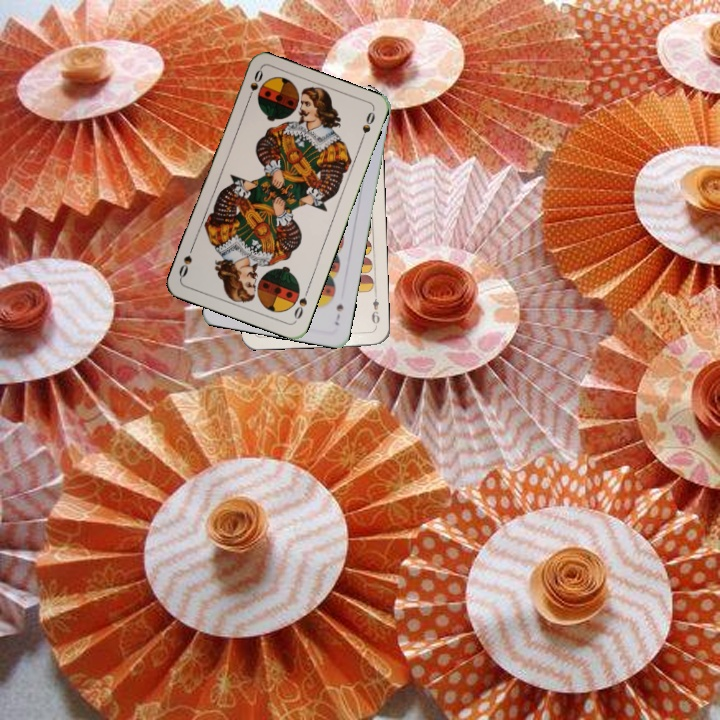E9: (368, 295, 382, 329)
S7: (331, 300, 346, 328)
SO: (243, 66, 266, 105), (290, 284, 311, 324)
